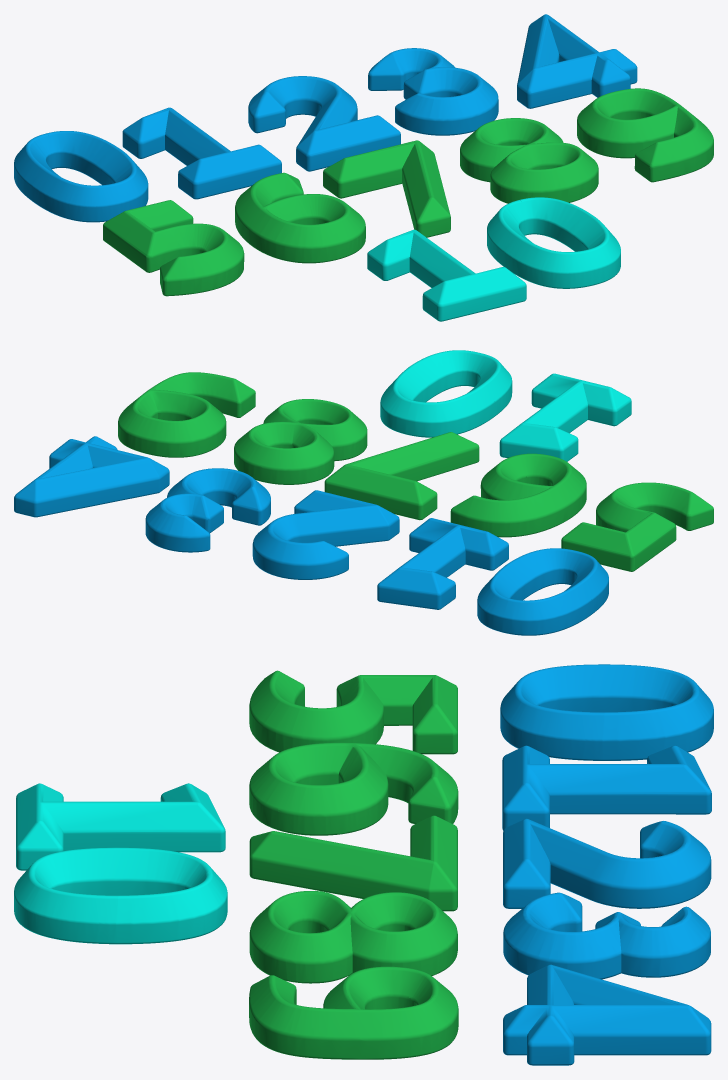
3 views of the same model, one above another, from view 1: azimuth 30°, elevation 25°; view 2: azimuth 150°, elevation 25°; view 3: azimuth 270°, elevation 25° (orthographic). The views are drawn at different scales.
Parts seen in each view (by area): view 1: 3MFMeshParent_10_10, 3MFMeshParent_1_1, 3MFMeshParent_9_9, 3MFMeshParent_6_6, 3MFMeshParent_0_0, 3MFMeshParent_7_7, 3MFMeshParent_3_3, 3MFMeshParent_4_4, 3MFMeshParent_11_11, 3MFMeshParent_2_2, 3MFMeshParent_5_5, 3MFMeshParent_8_8; view 2: 3MFMeshParent_1_1, 3MFMeshParent_10_10, 3MFMeshParent_3_3, 3MFMeshParent_9_9, 3MFMeshParent_0_0, 3MFMeshParent_6_6, 3MFMeshParent_7_7, 3MFMeshParent_5_5, 3MFMeshParent_8_8, 3MFMeshParent_4_4, 3MFMeshParent_2_2, 3MFMeshParent_11_11; view 3: 3MFMeshParent_10_10, 3MFMeshParent_1_1, 3MFMeshParent_9_9, 3MFMeshParent_0_0, 3MFMeshParent_7_7, 3MFMeshParent_5_5, 3MFMeshParent_3_3, 3MFMeshParent_6_6, 3MFMeshParent_4_4, 3MFMeshParent_2_2, 3MFMeshParent_11_11, 3MFMeshParent_8_8.
Part boxes in pixels (bbox=[...]): 3MFMeshParent_10_10: bbox=[487, 197, 620, 288]; 3MFMeshParent_1_1: bbox=[14, 131, 148, 222]; 3MFMeshParent_9_9: bbox=[577, 88, 713, 182]; 3MFMeshParent_6_6: bbox=[103, 200, 244, 296]; 3MFMeshParent_0_0: bbox=[460, 118, 598, 203]; 3MFMeshParent_7_7: bbox=[235, 172, 365, 263]; 3MFMeshParent_3_3: bbox=[248, 76, 400, 171]; 3MFMeshParent_4_4: bbox=[368, 48, 498, 135]; 3MFMeshParent_11_11: bbox=[367, 229, 526, 321]; 3MFMeshParent_2_2: bbox=[122, 107, 281, 199]; 3MFMeshParent_5_5: bbox=[517, 14, 637, 108]; 3MFMeshParent_8_8: bbox=[323, 140, 450, 237]; 3MFMeshParent_1_1: bbox=[477, 548, 608, 635]; 3MFMeshParent_10_10: bbox=[380, 350, 512, 437]; 3MFMeshParent_3_3: bbox=[252, 490, 399, 579]; 3MFMeshParent_9_9: bbox=[118, 372, 255, 457]; 3MFMeshParent_0_0: bbox=[234, 399, 367, 484]; 3MFMeshParent_6_6: bbox=[561, 482, 713, 571]; 3MFMeshParent_7_7: bbox=[450, 453, 586, 537]; 3MFMeshParent_5_5: bbox=[14, 436, 169, 517]; 3MFMeshParent_8_8: bbox=[324, 432, 479, 520]; 3MFMeshParent_4_4: bbox=[145, 468, 270, 552]; 3MFMeshParent_2_2: bbox=[377, 518, 508, 609]; 3MFMeshParent_11_11: bbox=[499, 373, 631, 461]; 3MFMeshParent_10_10: bbox=[14, 847, 227, 944]; 3MFMeshParent_1_1: bbox=[500, 664, 713, 760]; 3MFMeshParent_9_9: bbox=[249, 966, 458, 1059]; 3MFMeshParent_0_0: bbox=[249, 891, 457, 983]; 3MFMeshParent_7_7: bbox=[249, 742, 458, 835]; 3MFMeshParent_5_5: bbox=[503, 964, 711, 1065]; 3MFMeshParent_3_3: bbox=[503, 818, 711, 908]; 3MFMeshParent_6_6: bbox=[249, 670, 457, 754]; 3MFMeshParent_4_4: bbox=[503, 892, 710, 979]; 3MFMeshParent_2_2: bbox=[502, 745, 711, 830]; 3MFMeshParent_11_11: bbox=[16, 783, 225, 870]; 3MFMeshParent_8_8: bbox=[249, 815, 457, 911].
Bounding box in the file's own units: 102 × 5.46 × 82.36.
